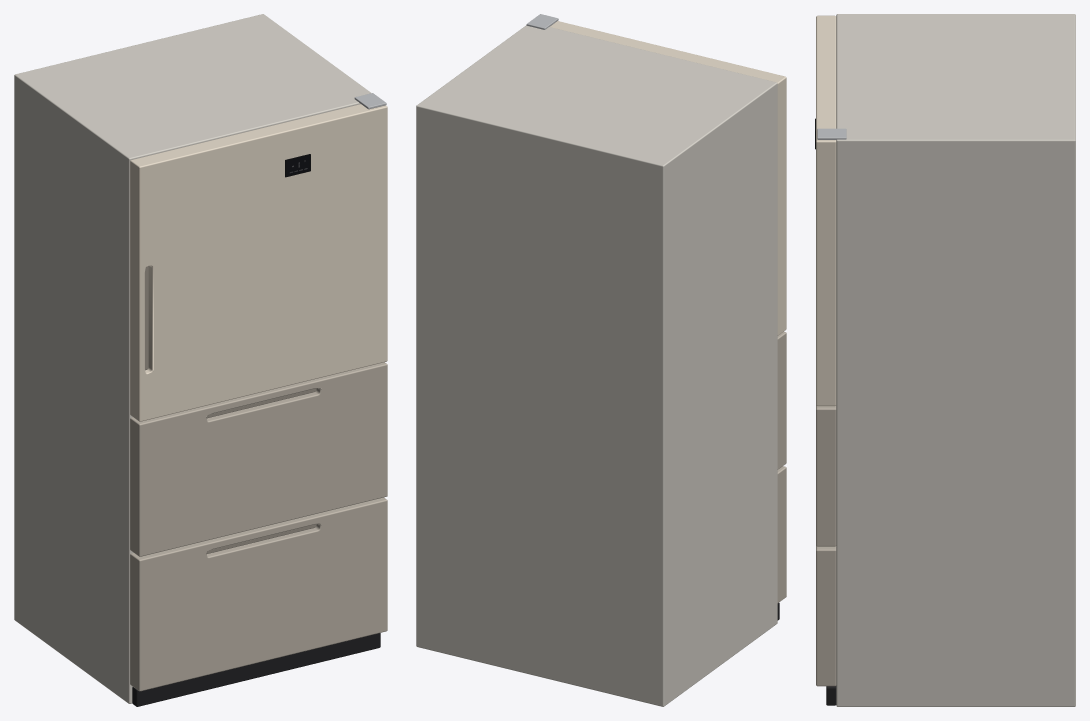
File: freezer.glb
The picture shows the model from 3 angles, left to right: view 1: azimuth 30°, elevation 25°; view 2: azimuth 150°, elevation 25°; view 3: azimuth 270°, elevation 25°; orthographic projection. The views are drawn at different scales.
Visible parts, largest first — view 1: freezer_fronts, freezer_cabinet; view 2: freezer_cabinet, freezer_fronts; view 3: freezer_cabinet, freezer_fronts.
Boxes of the visible parts, x1,y1,x2,y2 form: freezer_fronts: [130, 104, 387, 691]; freezer_cabinet: [14, 14, 380, 706]; freezer_cabinet: [416, 25, 779, 706]; freezer_fronts: [550, 21, 786, 602]; freezer_cabinet: [826, 14, 1075, 706]; freezer_fronts: [816, 15, 836, 686].
Bounding box in the file's own units: 0.886 × 1.86 × 0.7712.
Materials: 8 (1 with a texture image).
